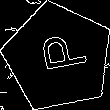P_W: (30, 34, 87, 81)
